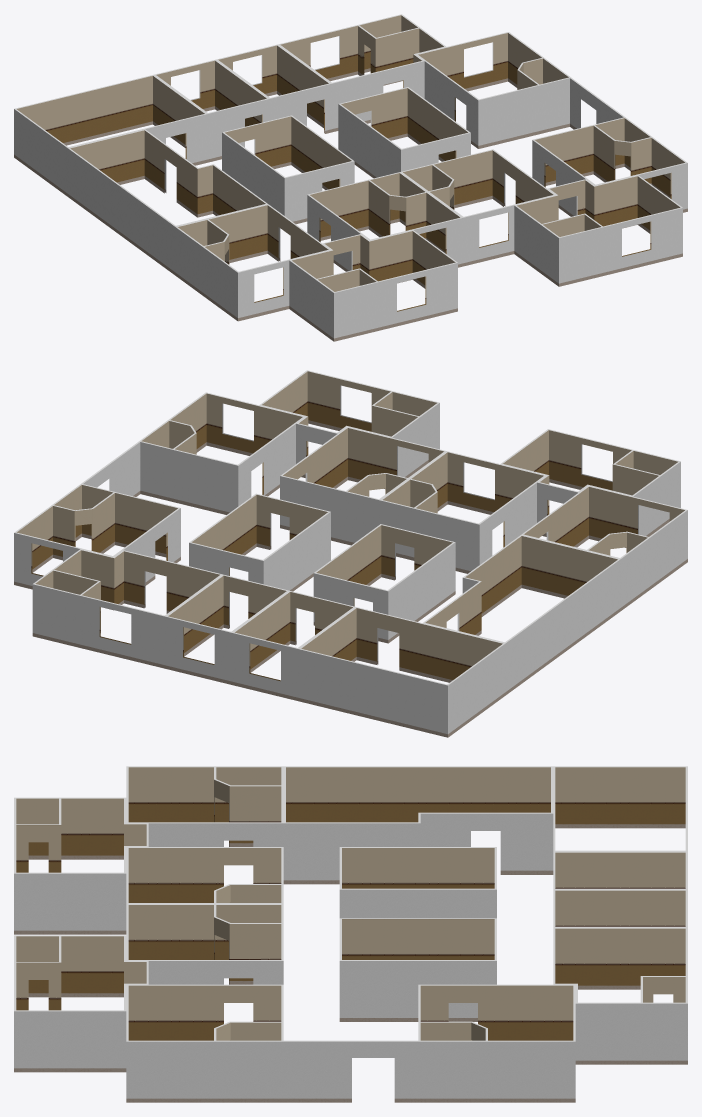
Rendered from hospital_structure.dae.
The picture shows the model from 3 angles, top to bottom: view 1: azimuth 30°, elevation 25°; view 2: azimuth 150°, elevation 25°; view 3: azimuth 270°, elevation 25°; orthographic projection. The views are drawn at different scales.
Visible parts, largest first — view 1: Cube 1.096; view 2: Cube 1.096; view 3: Cube 1.096.
Boxes of the visible parts, x1,y1,x2,y2 form: Cube 1.096: (14, 14, 687, 341); Cube 1.096: (14, 370, 687, 737); Cube 1.096: (14, 766, 687, 1102).
Bounding box in the file's own units: 29 × 30 × 3.
